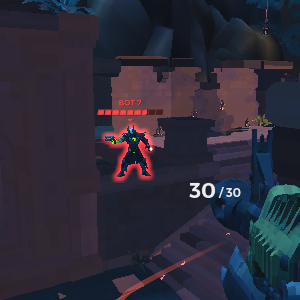model: (109, 123, 155, 186)
